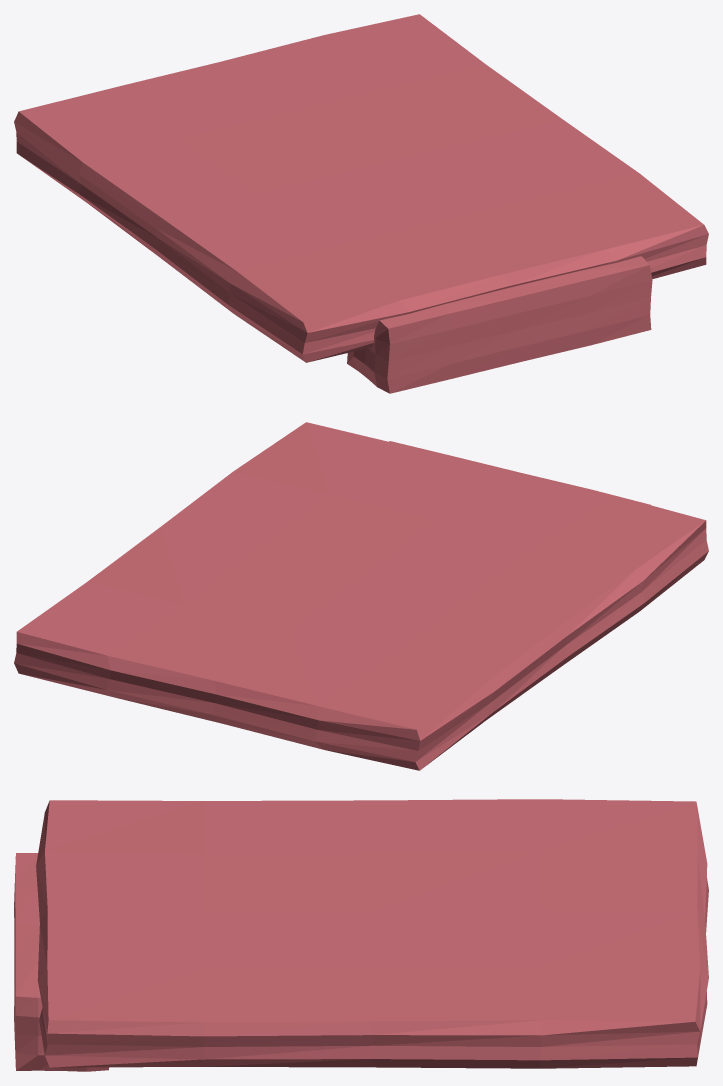
The model's file is capa-roja.glb.
3 renders of one model, top to bottom at view 1: azimuth 30°, elevation 25°; view 2: azimuth 150°, elevation 25°; view 3: azimuth 270°, elevation 25°, orthographic. The views are drawn at different scales.
Parts seen in each view (by area): view 1: capa-roja_00, capa-roja_01; view 2: capa-roja_00; view 3: capa-roja_00, capa-roja_01.
Part boxes in pixels (x1,y1,x2,y2): capa-roja_00: [14, 14, 708, 362]; capa-roja_01: [347, 256, 652, 393]; capa-roja_00: [14, 422, 708, 770]; capa-roja_00: [36, 799, 708, 1068]; capa-roja_01: [14, 853, 109, 1071].
Bounding box in the file's own units: 1.05 × 0.1931 × 1.35.
